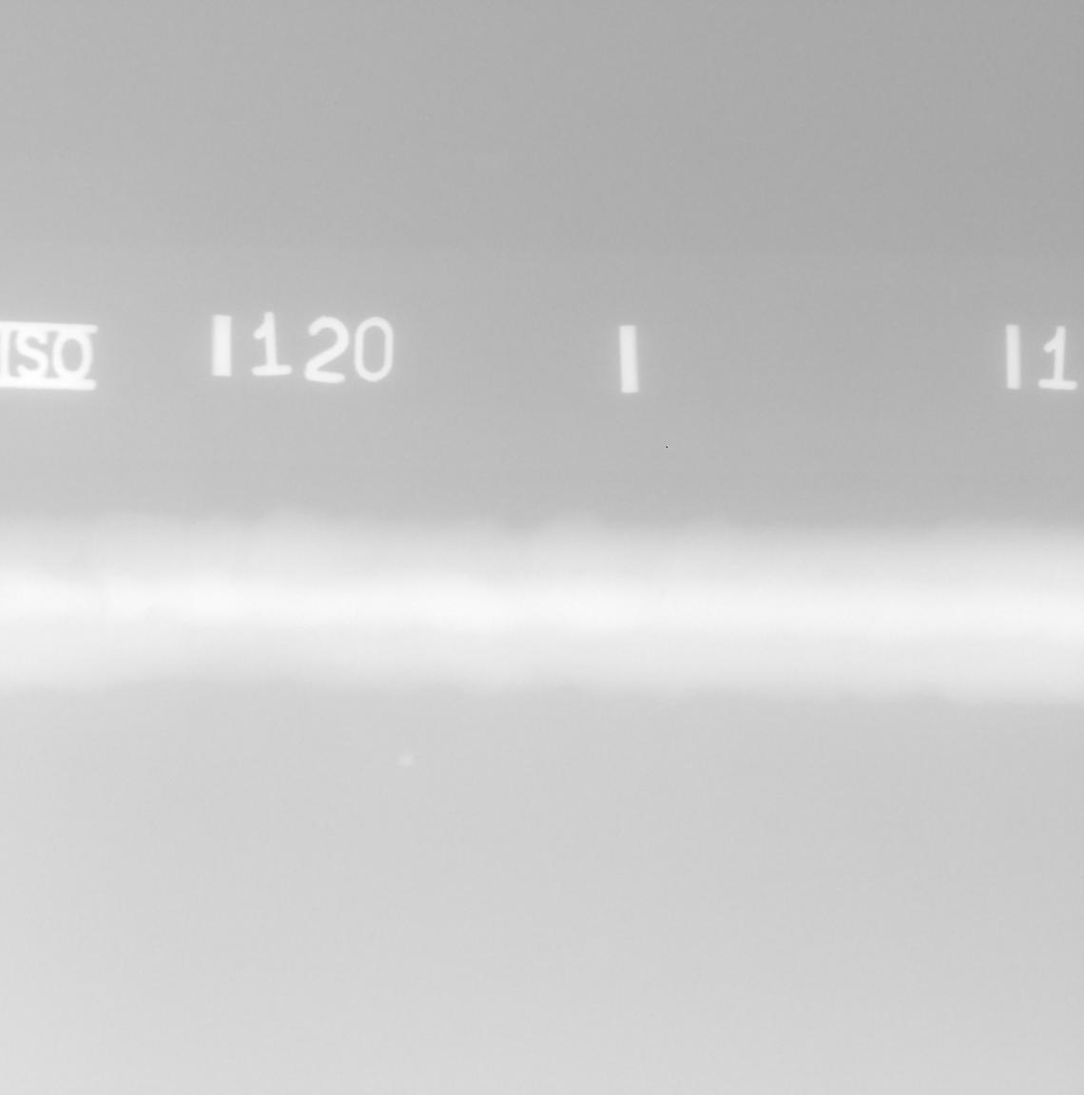Pore/Porosity: (661, 590, 665, 596)
